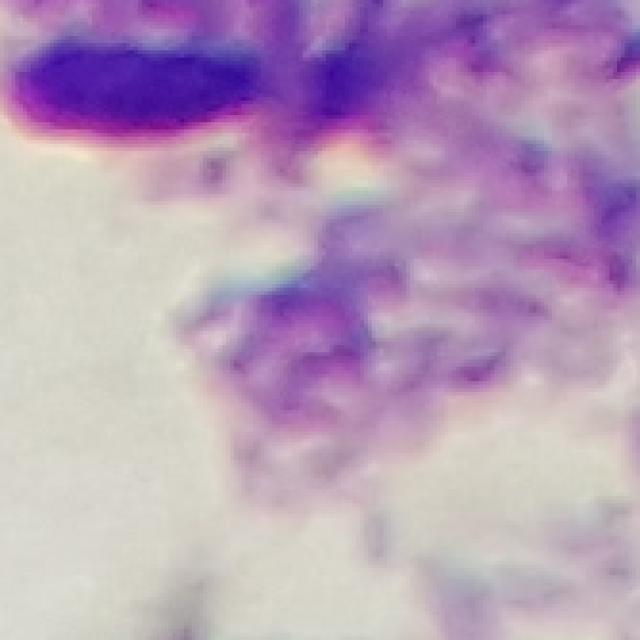abnormal sperm: (10, 40, 420, 139)
non-sperm: (184, 217, 419, 496)
